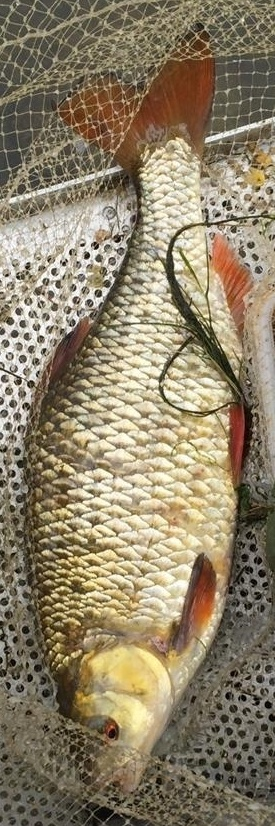Rutilus rutilus: (20, 20, 255, 806)
